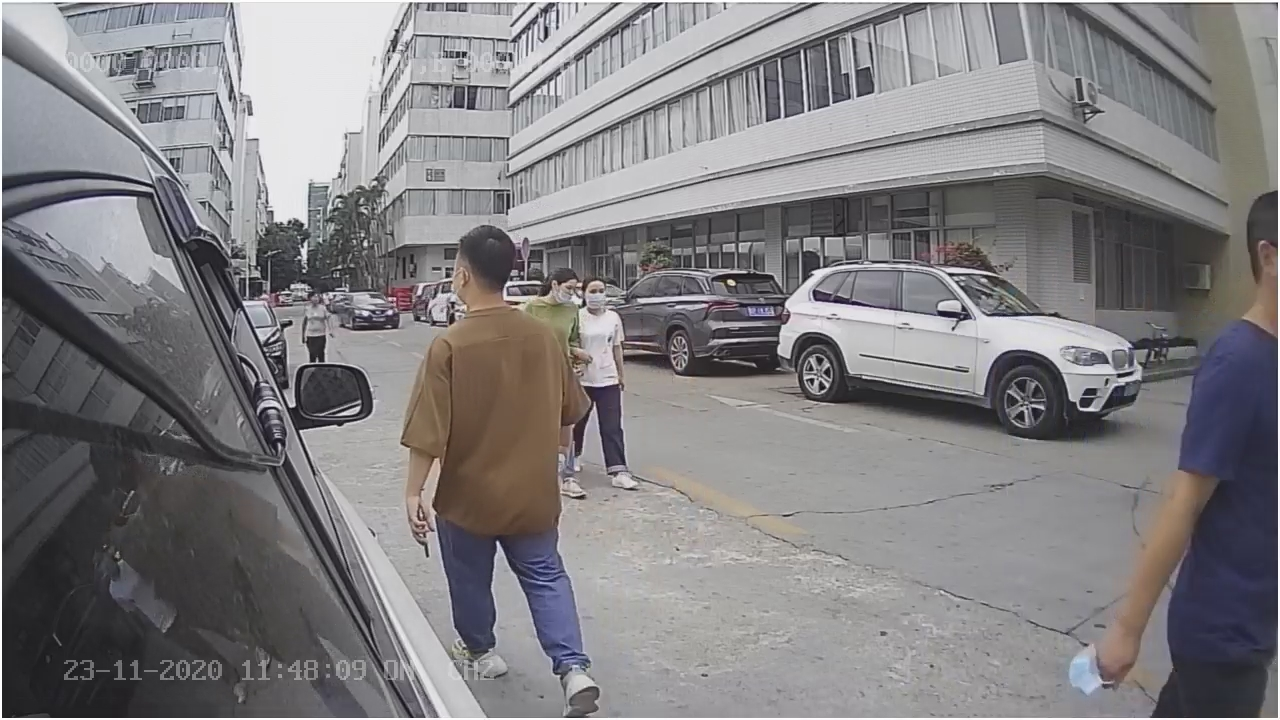person: (394, 219, 594, 551)
